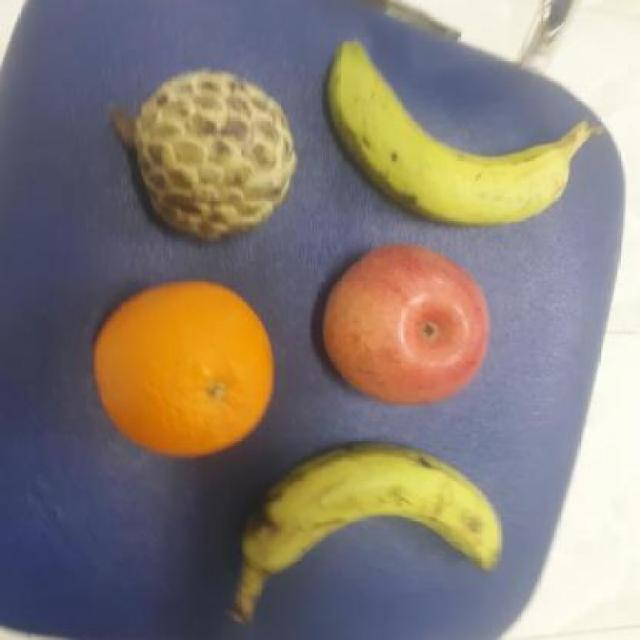apple: (318, 238, 490, 409)
banana: (323, 43, 592, 232), (238, 436, 510, 587)
oren: (91, 279, 278, 459)
sugar apple: (128, 66, 299, 240)
